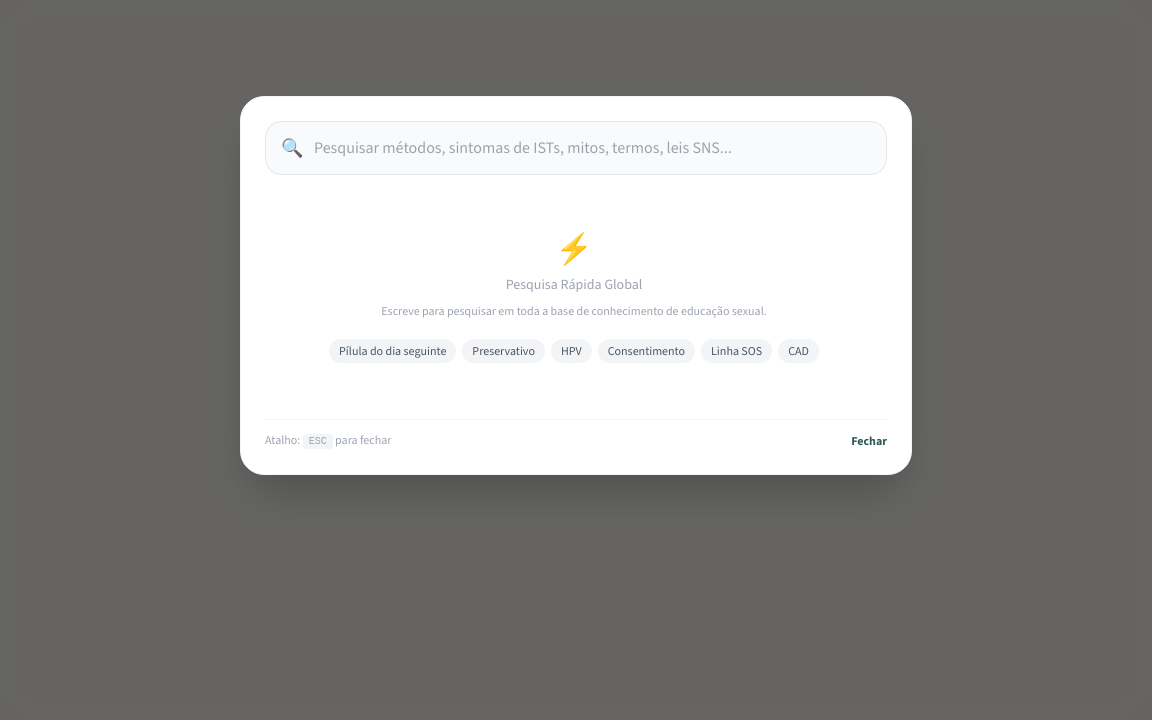
Test case: GlobalSearchModal › shows no-results message for non-matching query
Replace the text in the field with placeholder "Pesquisar" with "xyzinexistente123" at coordinates (576, 148), box [265,121,887,175]
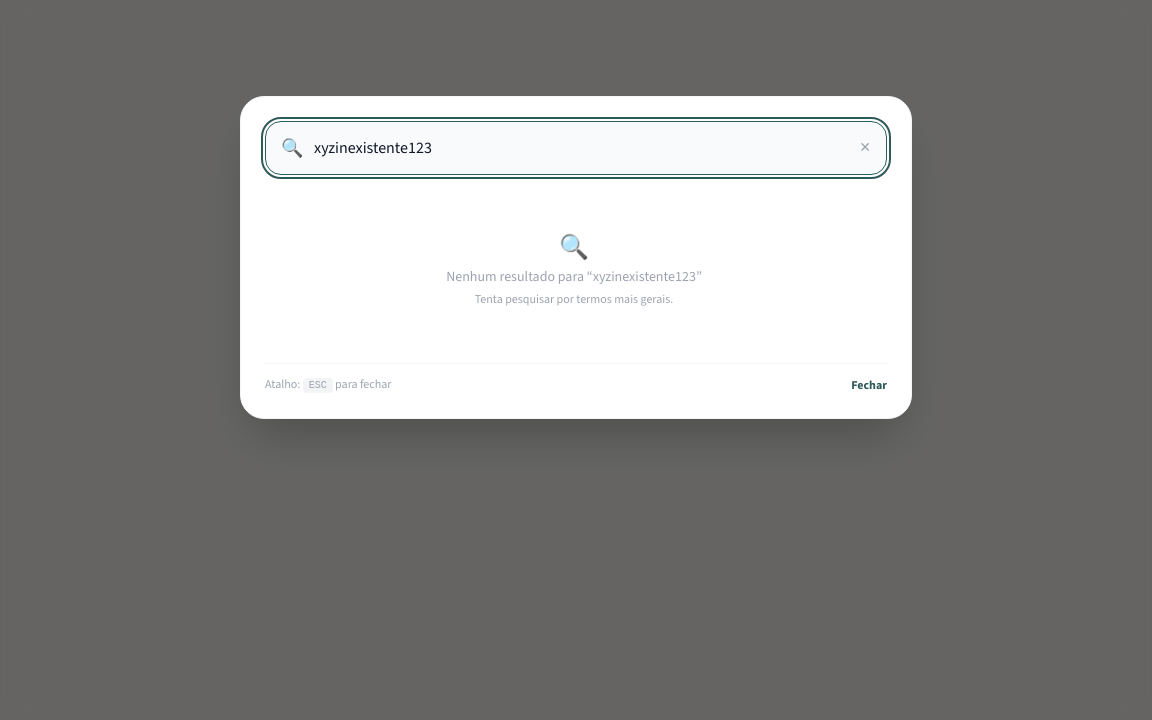
Expected: the text "Nenhum resultado para “xyzinexistente123”" is shown, [446,267,702,286]
